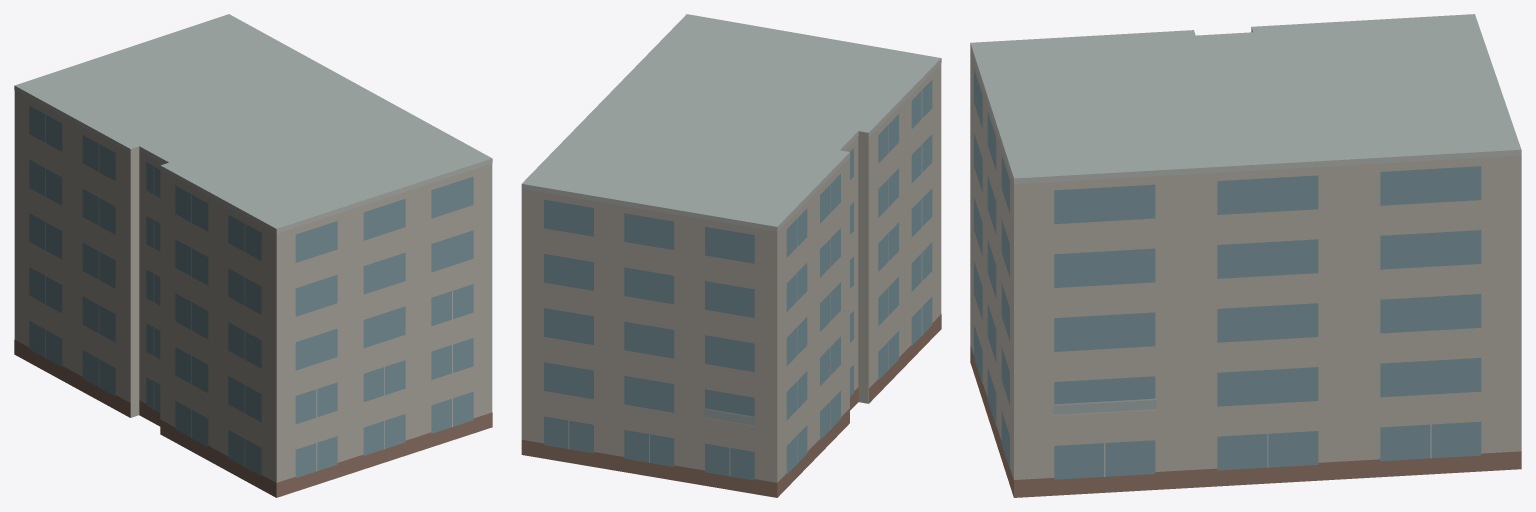
The model's file is survey-upis-32924032.glb.
3 views of the same model, side by side, from view 1: azimuth 30°, elevation 25°; view 2: azimuth 150°, elevation 25°; view 3: azimuth 270°, elevation 25° (orthographic). The views are drawn at different scales.
Visible parts, largest first — view 1: survey-upis-32924032.tmp; view 2: survey-upis-32924032.tmp; view 3: survey-upis-32924032.tmp.
Part boxes in pixels (left/top/right/bottom): survey-upis-32924032.tmp: left=14, top=14, right=492, bottom=497; survey-upis-32924032.tmp: left=521, top=14, right=941, bottom=497; survey-upis-32924032.tmp: left=970, top=14, right=1521, bottom=497.
Size of the model in its own units: 14.81 by 13.4 by 20.97.
